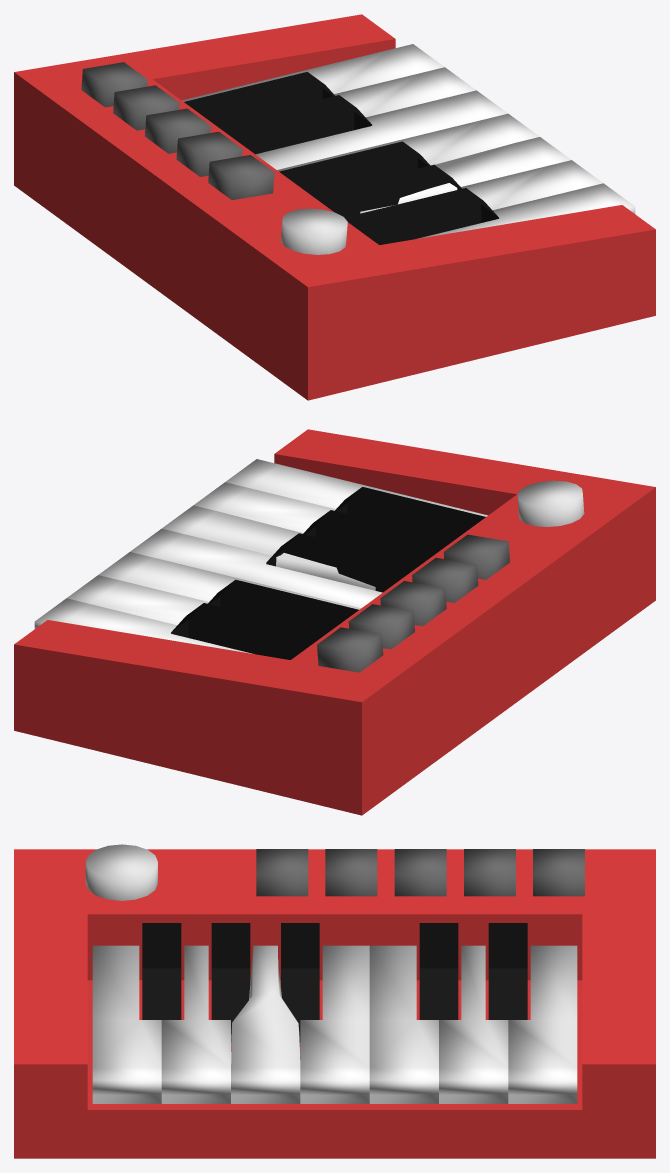
File: 164-piano.glb
3 views of the same model, one above another, from view 1: azimuth 30°, elevation 25°; view 2: azimuth 150°, elevation 25°; view 3: azimuth 270°, elevation 25° (orthographic). The views are drawn at different scales.
Parts seen in each view (by area): view 1: Plane.012, Plane.006, Plane.008, Plane.011, Plane.009, Plane.001, Plane.003, Plane.005, Plane.002, Plane.004, Plane.007, Plane.010 (+7 smaller); view 2: Plane.012, Plane.003, Plane.001, Plane.005, Plane.010, Plane.011, Plane.008, Plane, Plane.006, Plane.009, Plane.004, Plane.007 (+7 smaller); view 3: Plane.012, Plane.003, Plane.006, Plane, Plane.002, Plane.005, Plane.004, Plane.007, Plane.001, Plane.008, Plane.011, Plane.010 (+7 smaller).
Part boxes in pixels (left/top/right/bottom): Plane.012: left=14, top=14, right=655, bottom=400; Plane.006: left=255, top=90, right=507, bottom=169; Plane.008: left=216, top=95, right=371, bottom=154; Plane.011: left=344, top=188, right=498, bottom=244; Plane.009: left=279, top=141, right=430, bottom=194; Plane.001: left=184, top=72, right=334, bottom=124; Plane.003: left=277, top=113, right=539, bottom=171; Plane.005: left=360, top=137, right=571, bottom=213; Plane.002: left=182, top=44, right=444, bottom=101; Plane.004: left=461, top=160, right=602, bottom=210; Plane.007: left=334, top=67, right=475, bottom=117; Plane.010: left=311, top=164, right=461, bottom=217; Plane.012: left=14, top=429, right=655, bottom=815; Plane.003: left=130, top=528, right=382, bottom=608; Plane.001: left=171, top=603, right=327, bottom=659; Plane.005: left=162, top=505, right=375, bottom=590; Plane.010: left=303, top=510, right=453, bottom=563; Plane.011: left=335, top=487, right=485, bottom=539; Plane.008: left=208, top=579, right=358, bottom=632; Plane: left=225, top=459, right=487, bottom=516; Plane.006: left=98, top=552, right=360, bottom=609; Plane.009: left=266, top=533, right=422, bottom=592; Plane.004: left=194, top=482, right=335, bottom=533; Plane.007: left=67, top=575, right=208, bottom=625; Plane.012: left=14, top=849, right=655, bottom=1158; Plane.003: left=300, top=945, right=369, bottom=1103; Plane.006: left=369, top=945, right=438, bottom=1103; Plane: left=92, top=945, right=161, bottom=1103; Plane.002: left=508, top=945, right=577, bottom=1103; Plane.005: left=231, top=945, right=300, bottom=1103; Plane.004: left=161, top=945, right=230, bottom=1103; Plane.007: left=439, top=945, right=508, bottom=1103; Plane.001: left=488, top=923, right=527, bottom=1019; Plane.008: left=419, top=923, right=458, bottom=1019; Plane.011: left=142, top=923, right=181, bottom=1019; Plane.010: left=211, top=923, right=250, bottom=1042.
Size of what is drawn, in the model's own units: 1.89 by 0.6533 by 2.65.
